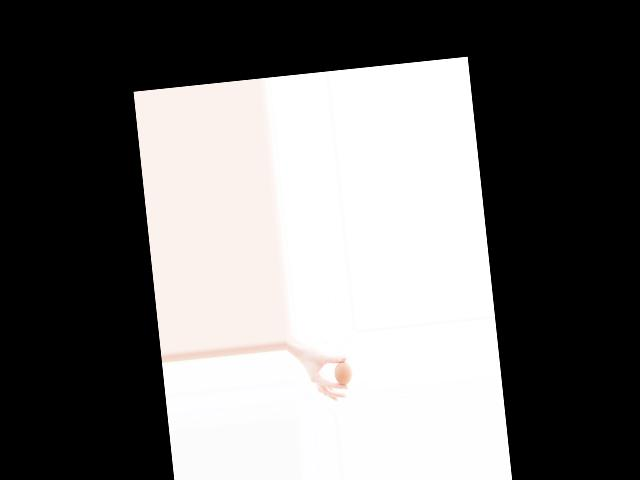egg: (334, 360, 353, 386)
